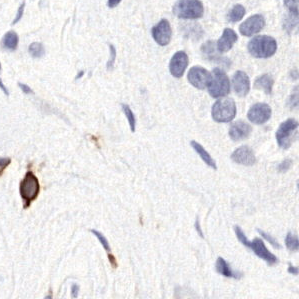Lymphocyte: (16, 168, 41, 205)
